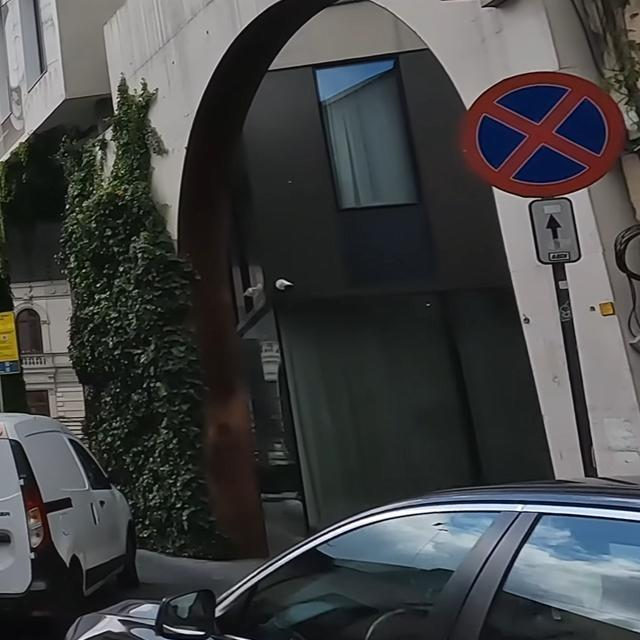forb_waiting: (459, 70, 627, 196)
